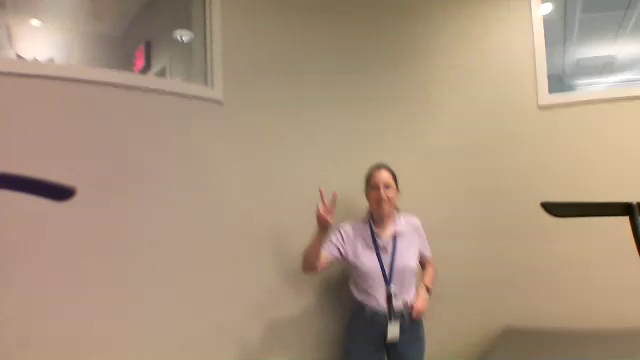peace: (313, 185, 343, 227)
